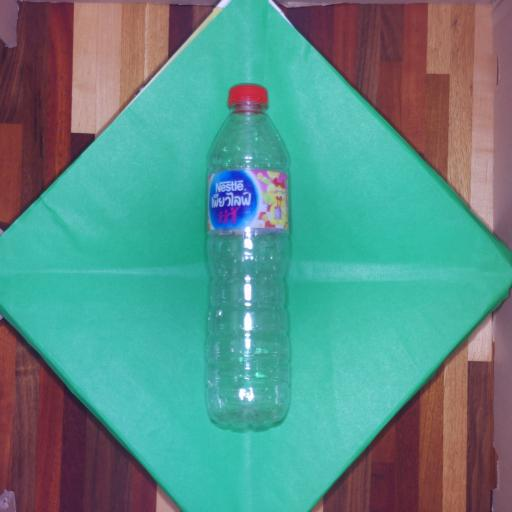bottle: (208, 83, 289, 429)
